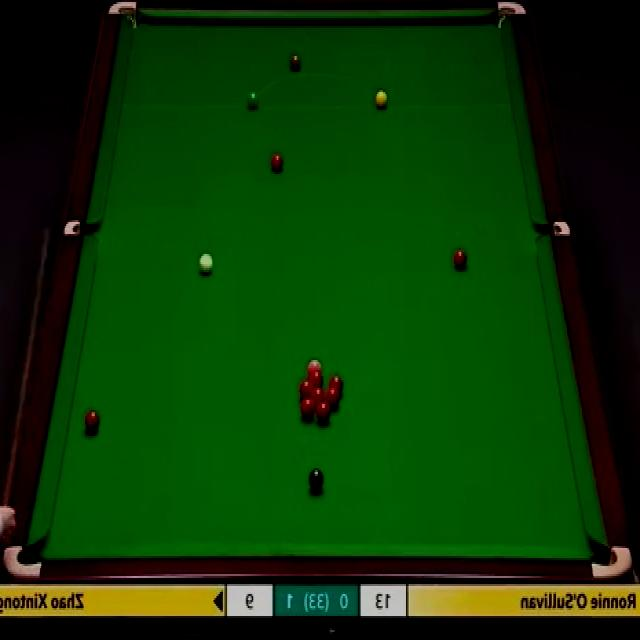black-ball: (307, 466, 324, 491)
brown-ball: (290, 53, 302, 71)
green-ball: (247, 89, 260, 110)
pink-ball: (308, 358, 322, 373)
red-ball: (85, 409, 100, 432), (308, 384, 323, 406), (454, 247, 468, 269), (301, 398, 315, 419), (316, 399, 330, 419), (271, 153, 284, 174), (330, 376, 342, 394), (300, 379, 310, 398), (323, 388, 338, 400), (310, 375, 323, 386)
white-ball: (197, 252, 214, 274)
yellow-ball: (376, 90, 388, 108)
